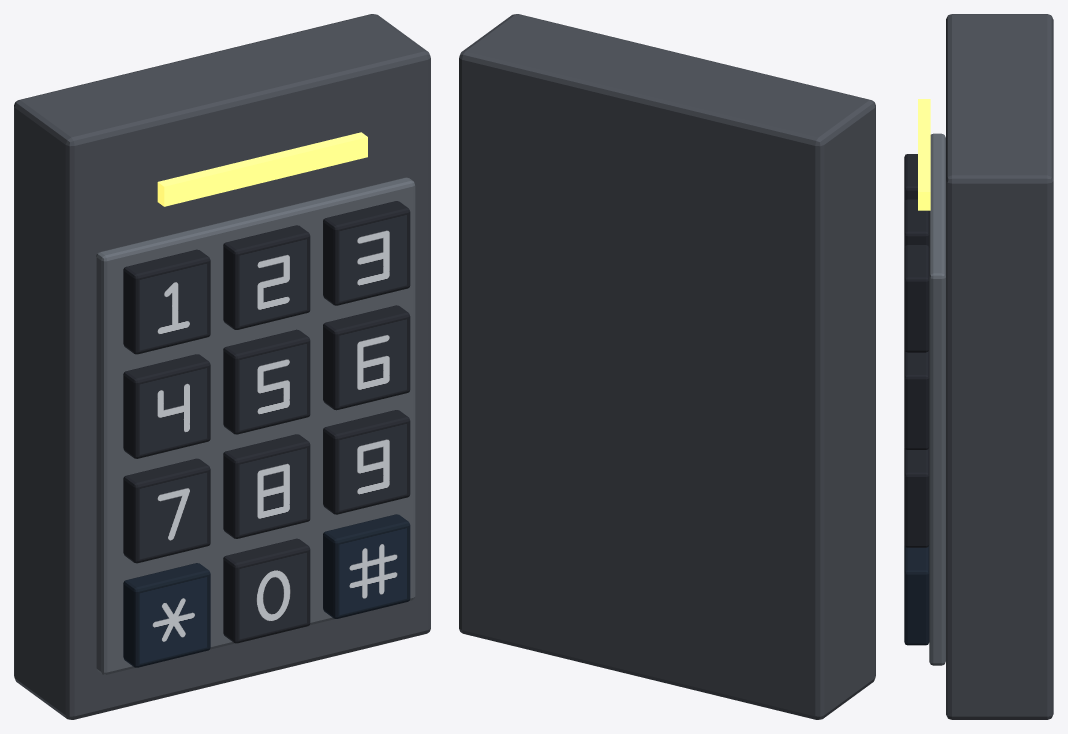
Rendered from Tastierino.fbx.
The picture shows the model from 3 angles, left to right: view 1: azimuth 30°, elevation 25°; view 2: azimuth 150°, elevation 25°; view 3: azimuth 270°, elevation 25°; orthographic projection. The views are drawn at different scales.
Parts seen in each view (by area): view 1: Keypad_Housing, Keypad_Bezel, Key_7, Key_0, Key_3, Key_1, Key_6, Key_2, Key_4, Key_5, Key_8, Key_9 (+3 smaller); view 2: Keypad_Housing; view 3: Keypad_Housing, Keypad_Bezel, Key_3, Key_Hash, Key_9, Key_6, Keypad_StatusLED, Key_2, Key_1.
Part boxes in pixels (<box>): Keypad_Housing: <box>14,14,430,719</box>; Keypad_Bezel: <box>96,177,415,674</box>; Key_7: <box>123,458,210,563</box>; Key_0: <box>223,538,310,643</box>; Key_3: <box>323,201,410,305</box>; Key_1: <box>123,249,210,354</box>; Key_6: <box>323,305,410,410</box>; Key_2: <box>223,225,310,329</box>; Key_4: <box>123,354,210,458</box>; Key_5: <box>223,329,310,434</box>; Key_8: <box>223,434,310,538</box>; Key_9: <box>323,410,410,514</box>; Keypad_Housing: <box>459,14,875,719</box>; Keypad_Housing: <box>946,14,1053,719</box>; Keypad_Bezel: <box>929,133,945,665</box>; Key_3: <box>904,245,929,352</box>; Key_Hash: <box>904,545,929,645</box>; Key_9: <box>904,447,929,547</box>; Key_6: <box>904,350,929,449</box>; Keypad_StatusLED: <box>918,99,930,210</box>; Key_2: <box>904,199,929,247</box>; Key_1: <box>904,154,917,201</box>.
Bounding box in the file's own units: 9.5 × 14.5 × 3.6.
